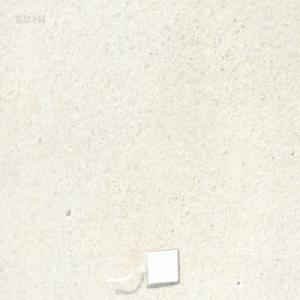LuggageTag: (100, 245, 177, 287)
